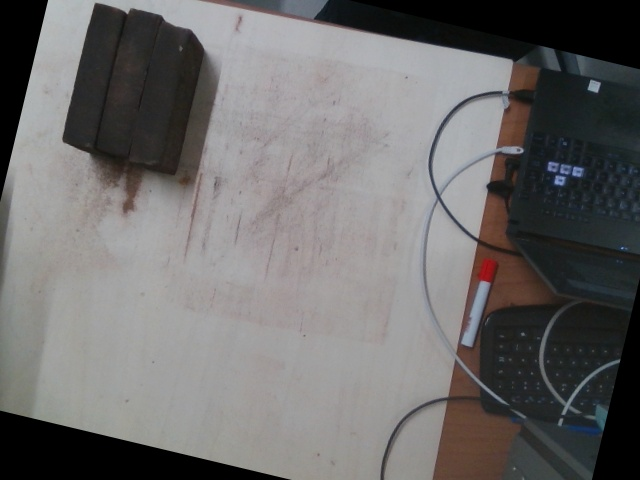brick-side: (95, 10, 161, 153), (127, 21, 192, 165), (60, 2, 125, 145)
